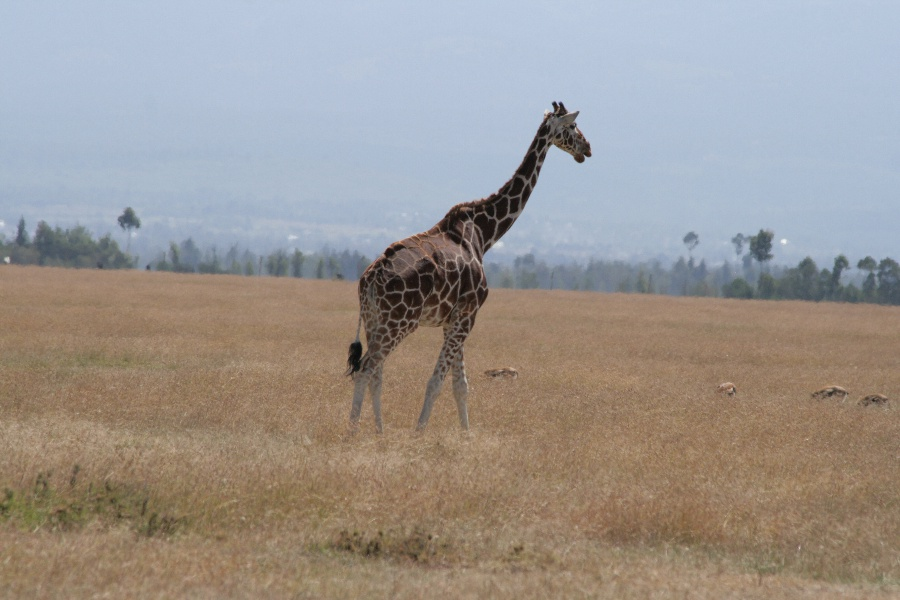giraffe: (337, 91, 600, 439)
